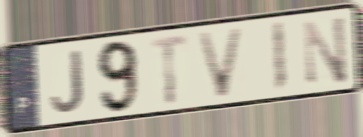9: (95, 38, 143, 115)
I: (270, 18, 288, 96)
J: (48, 48, 86, 116)
N: (301, 13, 349, 87)
T: (148, 32, 190, 108)
V: (194, 25, 247, 101)
